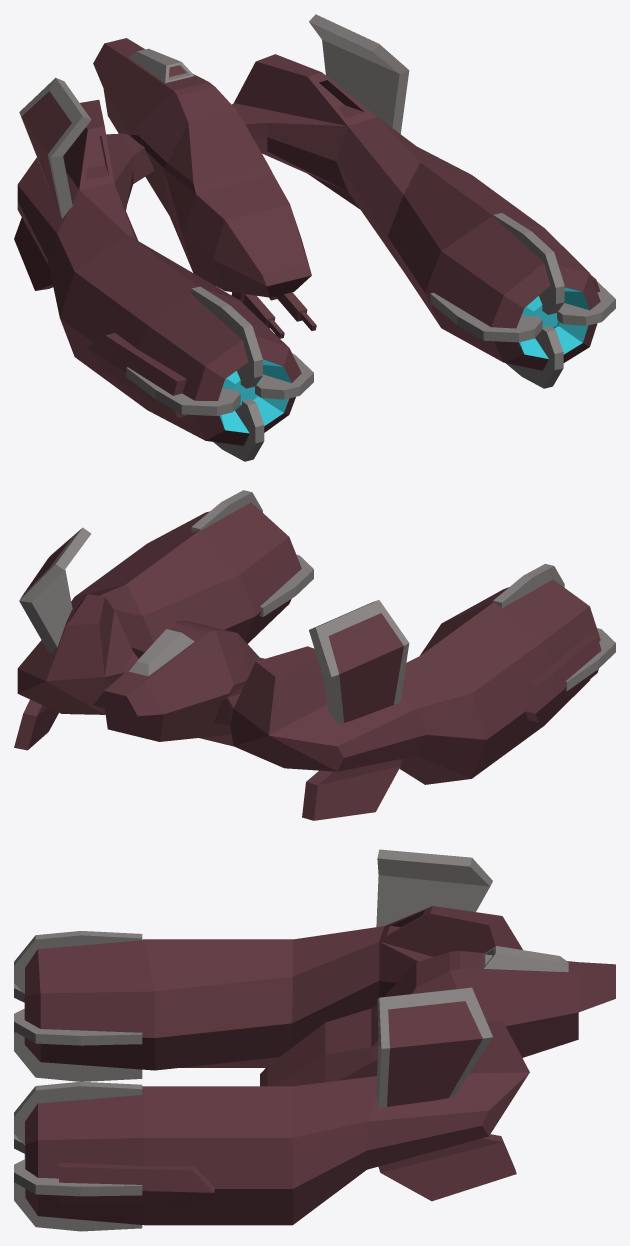
Rendered from scifi-spaceship-raider.fbx.
3 renders of one model, top to bottom at view 1: azimuth 30°, elevation 25°; view 2: azimuth 150°, elevation 25°; view 3: azimuth 270°, elevation 25°, orthographic. The views are drawn at different scales.
Parts seen in each view (by area): view 1: scifi-spaceship-raider; view 2: scifi-spaceship-raider; view 3: scifi-spaceship-raider.
Part boxes in pixels (x1=…): scifi-spaceship-raider: x1=14, y1=14, x2=615, y2=461; scifi-spaceship-raider: x1=14, y1=490, x2=615, y2=820; scifi-spaceship-raider: x1=14, y1=849, x2=615, y2=1231.
Size of the model in its own units: 7.86 by 3.8 by 8.95.
